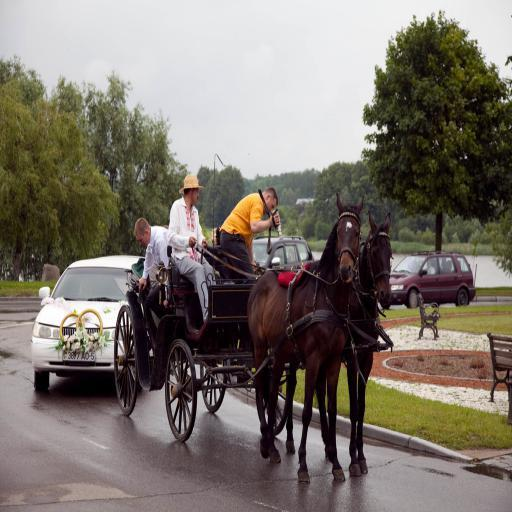horse: (246, 194, 364, 482), (312, 210, 392, 475)
